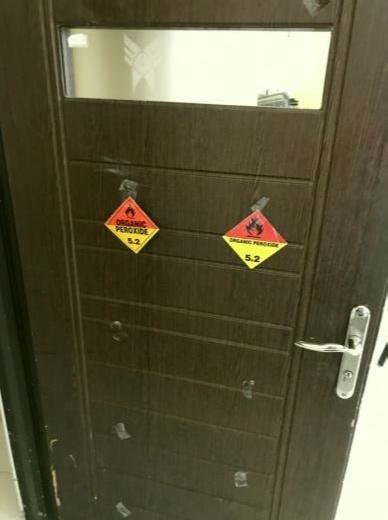organic-peroxide: (222, 206, 289, 268), (105, 195, 164, 253)
